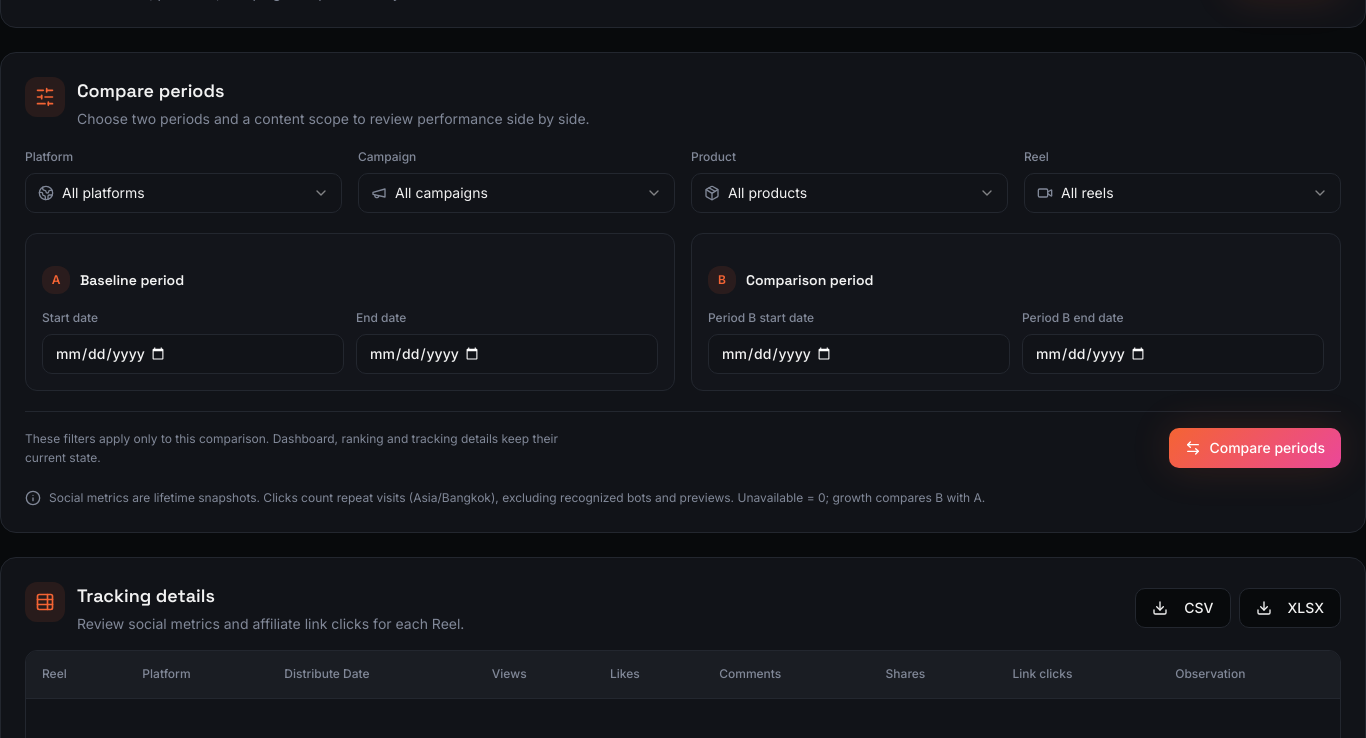
Test: renders valid click changes for A=0 and B=5
The width and height of the screenshot is (1366, 738).
(page scrolled)
Expected: the heading "Tracking details" is shown, [77,584,215,606]
Type "2026-01-01" into the date field labelled "Start date".
click(193, 354); type("2026-01-01")  # box [42,334,344,374]
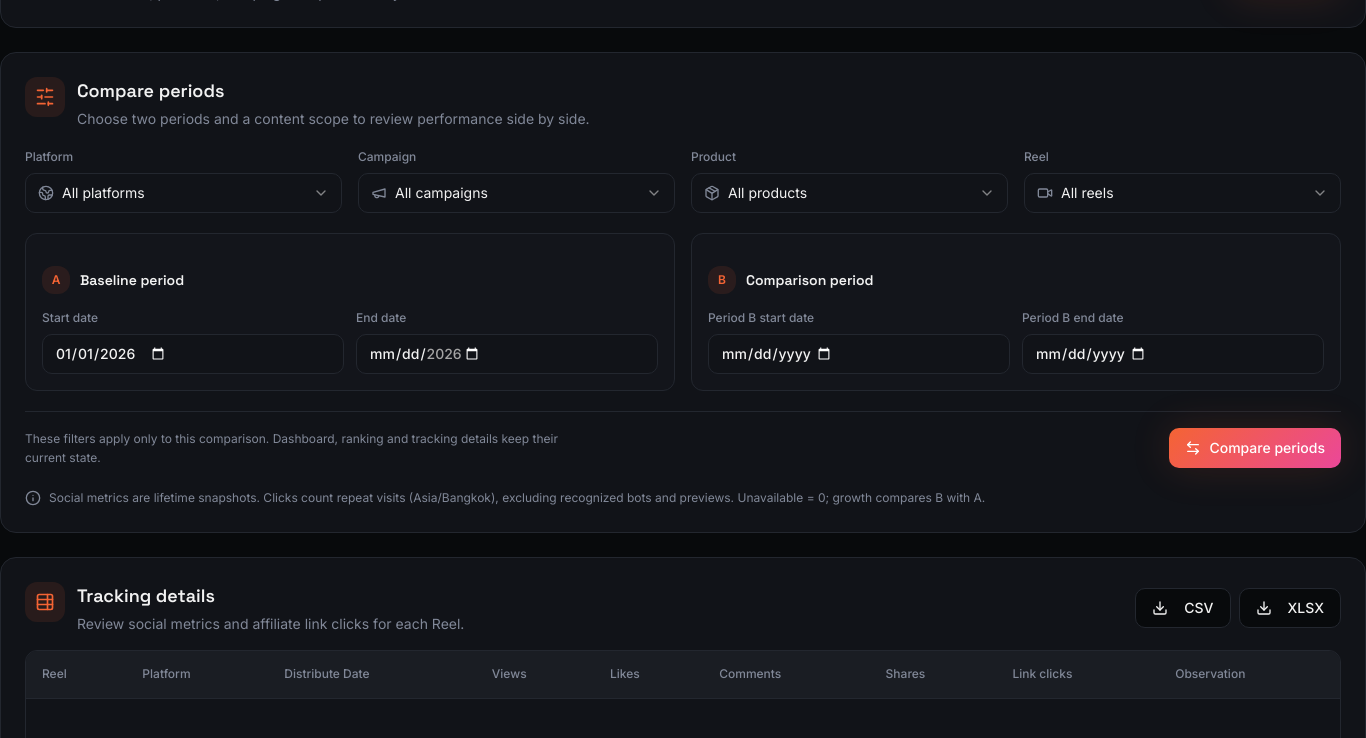
Type "2026-01-07" into the date field labelled "End date".
click(507, 354); type("2026-01-07")  # box [356,334,658,374]
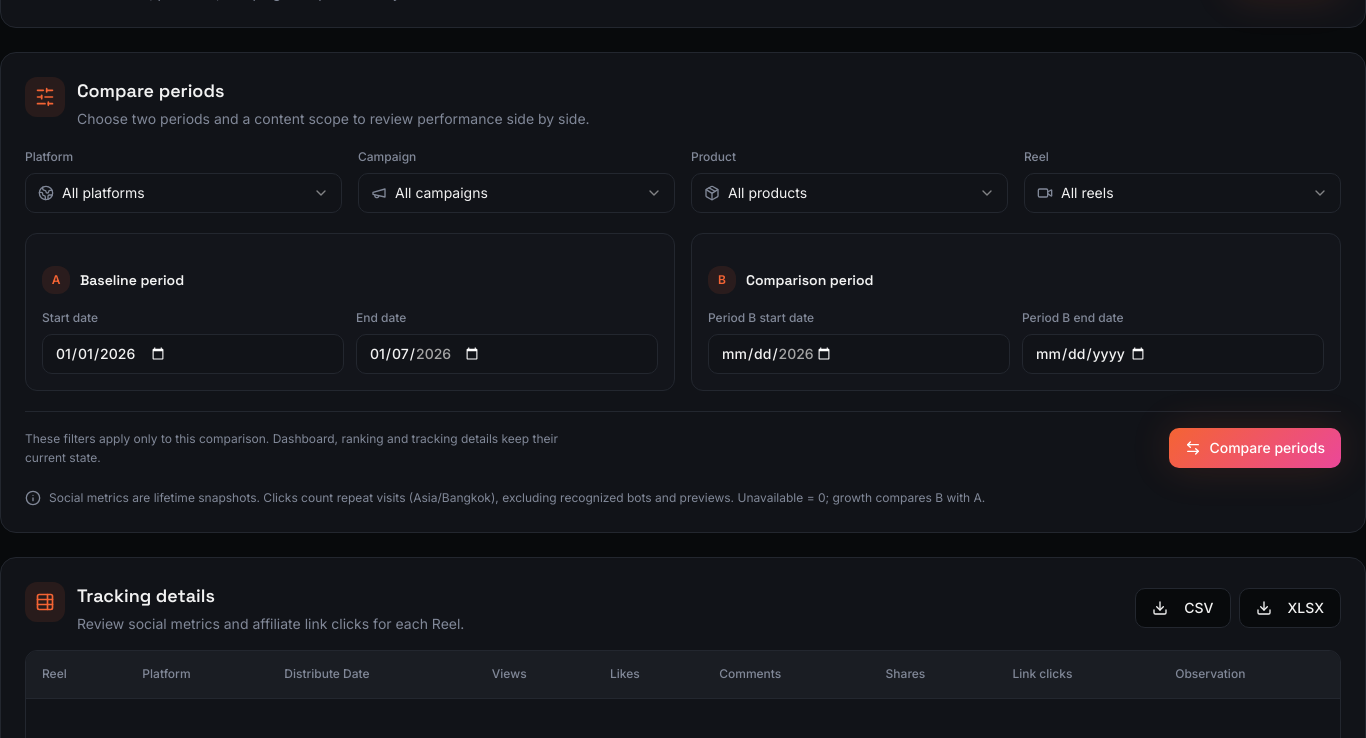
Type "2026-01-08" into the date field labelled "Period B start date".
click(859, 354); type("2026-01-08")  # box [708,334,1010,374]
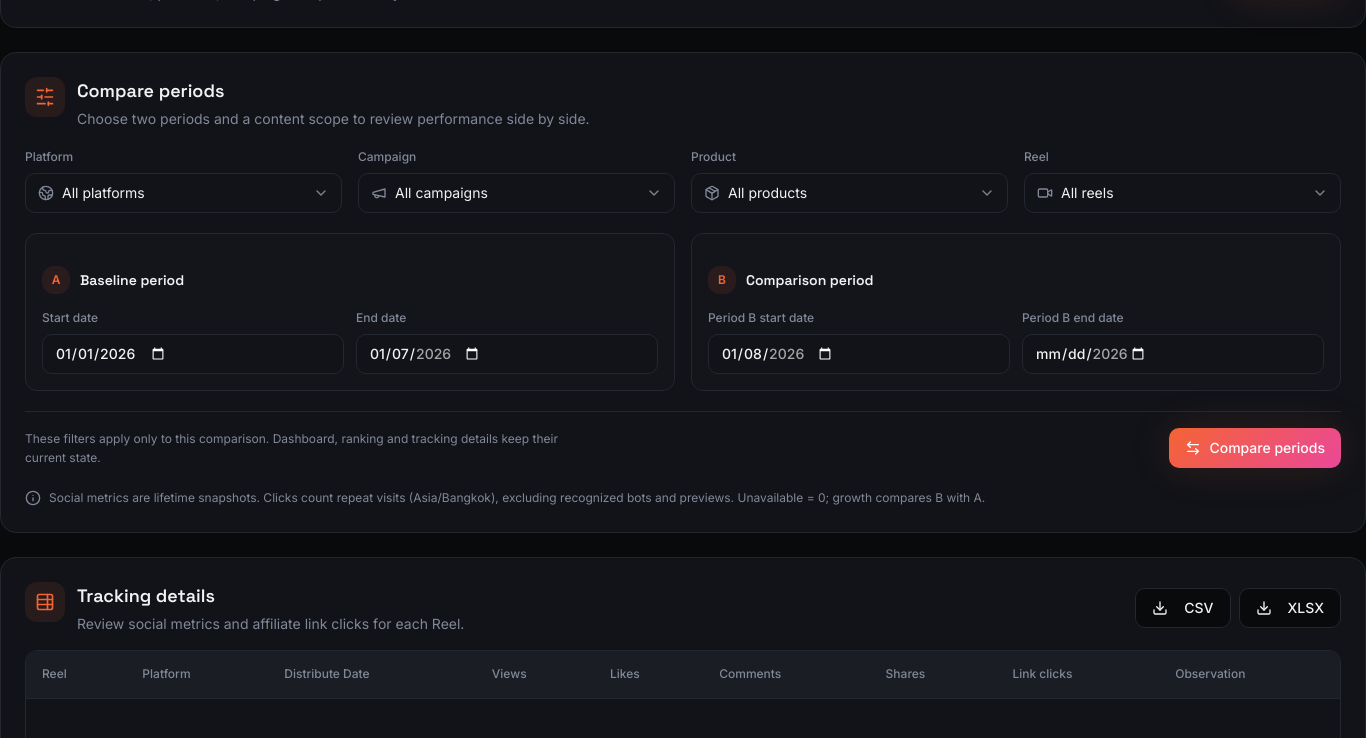
Type "2026-01-14" into the date field labelled "Period B end date".
click(1173, 354); type("2026-01-14")  # box [1022,334,1324,374]
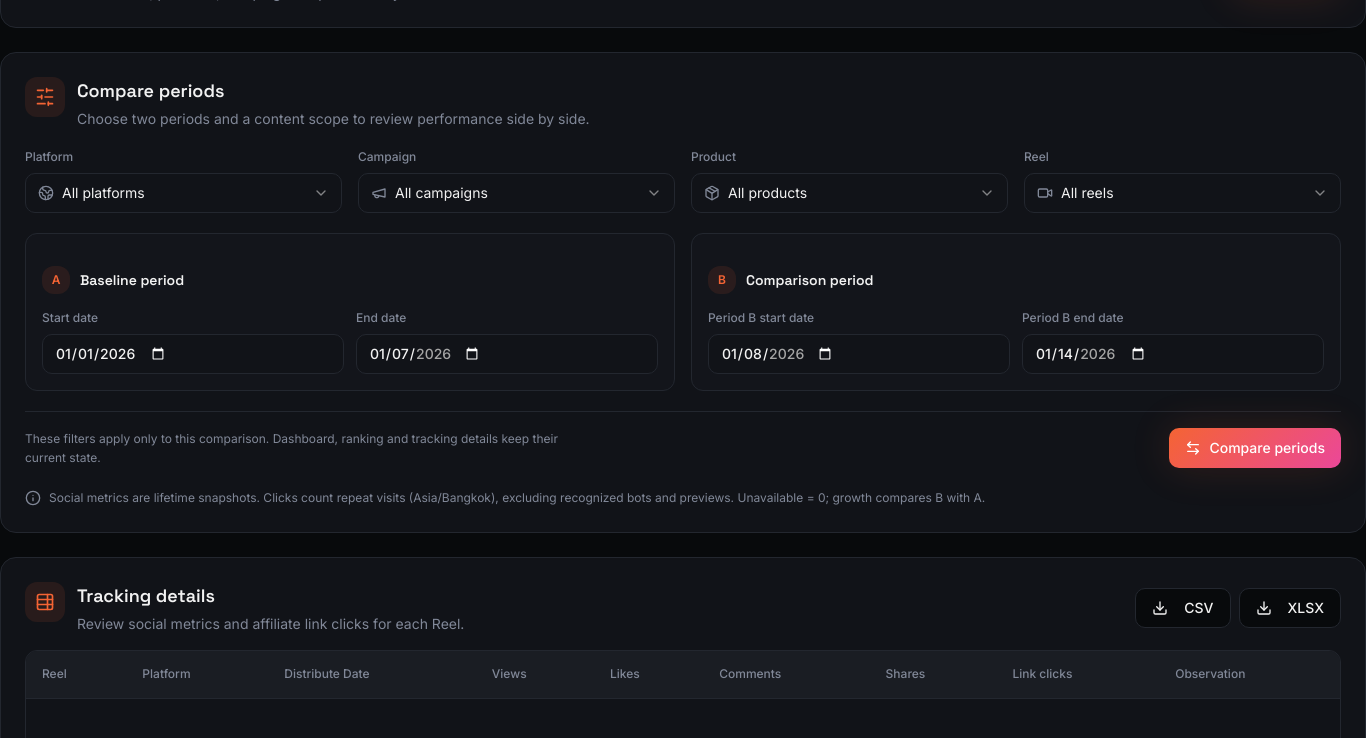
Click the button "Compare periods".
click(1255, 448)  # box [1169,428,1341,468]
(page scrolled)
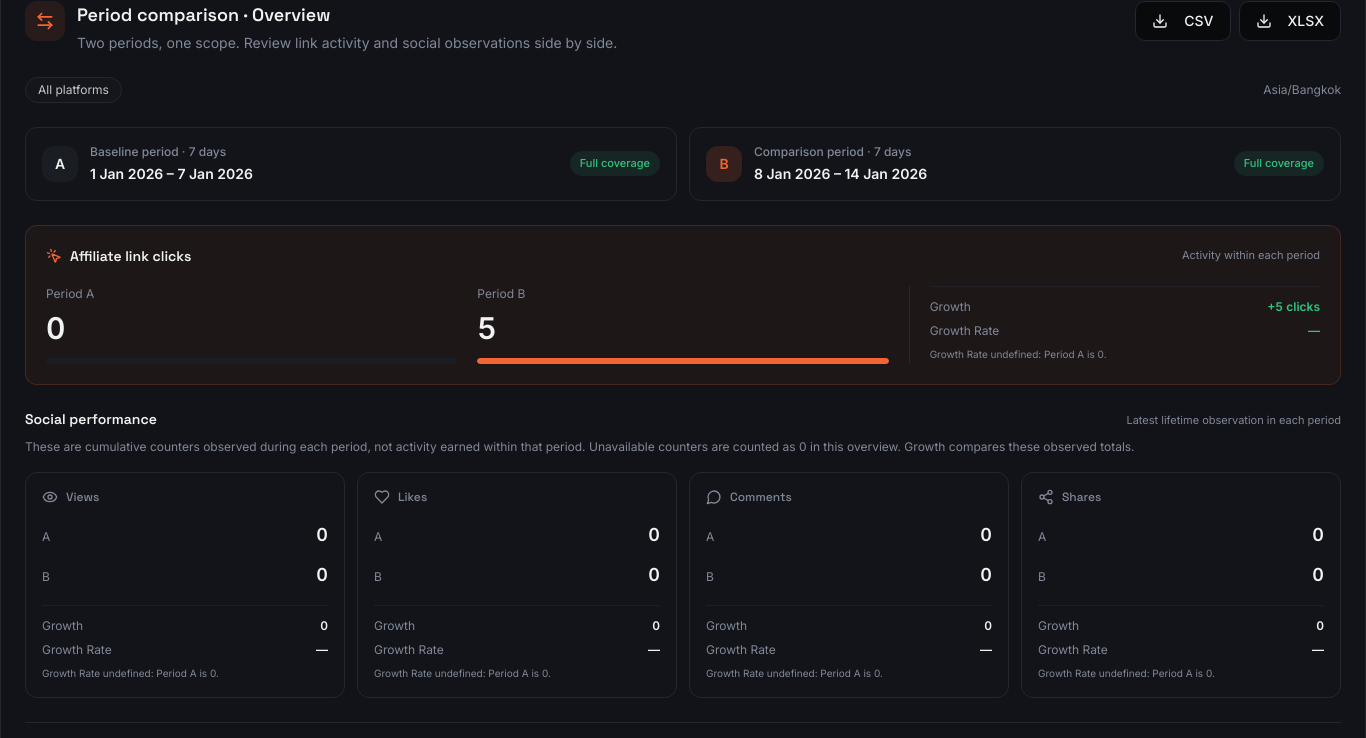
Result: the text named "Click growth rate" reads "—" at [1308,322,1320,338]
Result: the text named "Click growth" reads "+5 clicks" at [1268,298,1320,314]
Result: the text "Growth Rate undefined: Period A is 0." below "+5" is shown at [930,348,1107,360]
